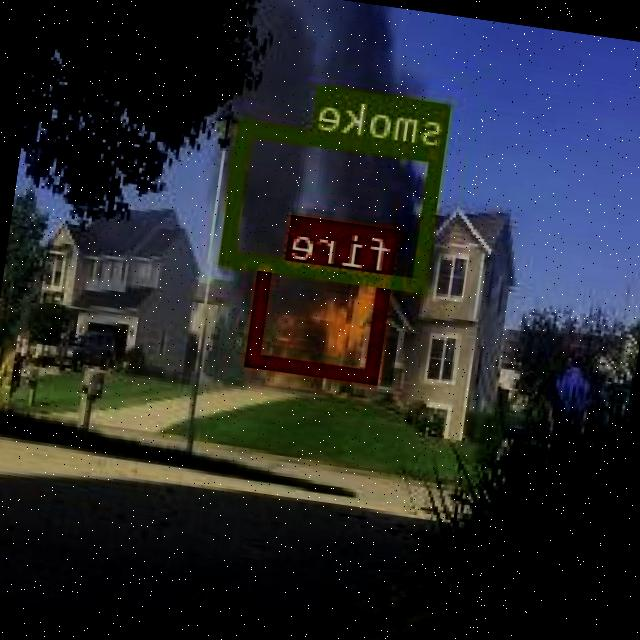fire: (248, 254, 394, 380)
smoke: (222, 119, 448, 291)
